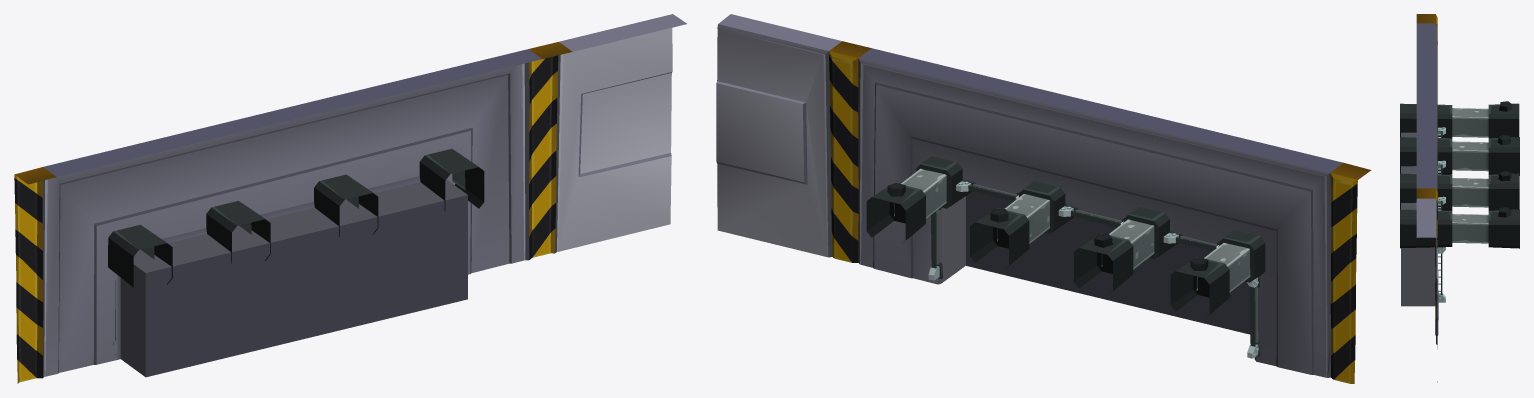
The model's file is herbertHallway.fbx.
3 renders of one model, left to right at view 1: azimuth 30°, elevation 25°; view 2: azimuth 150°, elevation 25°; view 3: azimuth 270°, elevation 25°, orthographic. The views are drawn at different scales.
Parts seen in each view (by area): view 1: herbertHallway; view 2: herbertHallway; view 3: herbertHallway.
Part boxes in pixels (<box>): herbertHallway: <box>14,14,686,383</box>; herbertHallway: <box>716,14,1371,383</box>; herbertHallway: <box>1400,14,1519,382</box>.
Bounding box in the file's own units: 3624 × 1117 × 821.
